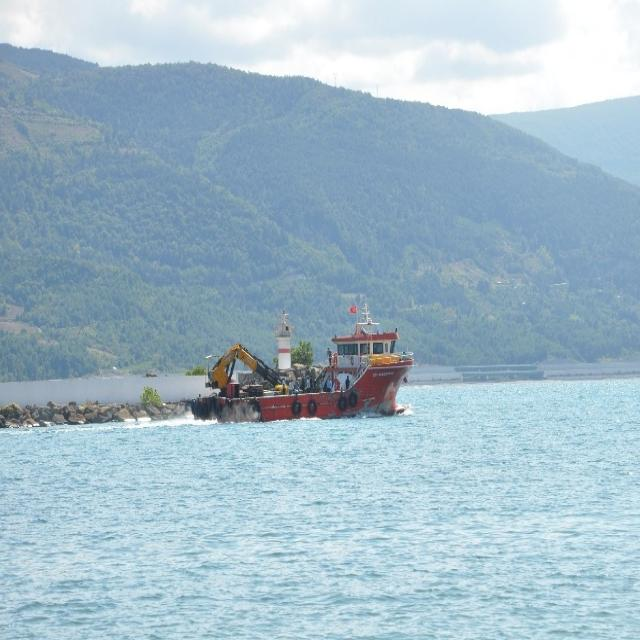fishing boat: (192, 299, 418, 427)
